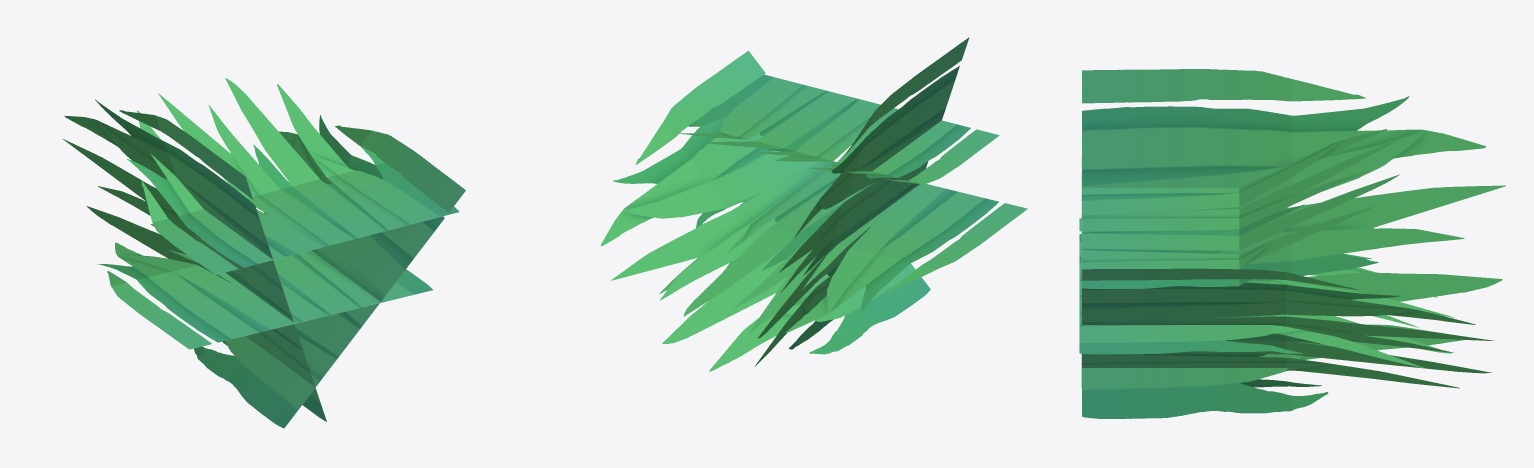
The model's file is grass.fbx.
3 views of the same model, side by side, from view 1: azimuth 30°, elevation 25°; view 2: azimuth 150°, elevation 25°; view 3: azimuth 270°, elevation 25° (orthographic). The views are drawn at different scales.
Visible parts, largest first — view 1: Plane; view 2: Plane; view 3: Plane.
Part boxes in pixels (box(x1,y1,x2,y2)): Plane: box(63, 78, 465, 428); Plane: box(600, 37, 1027, 371); Plane: box(1079, 69, 1505, 418).
Bounding box in the file's own units: 237 × 212 × 229.
